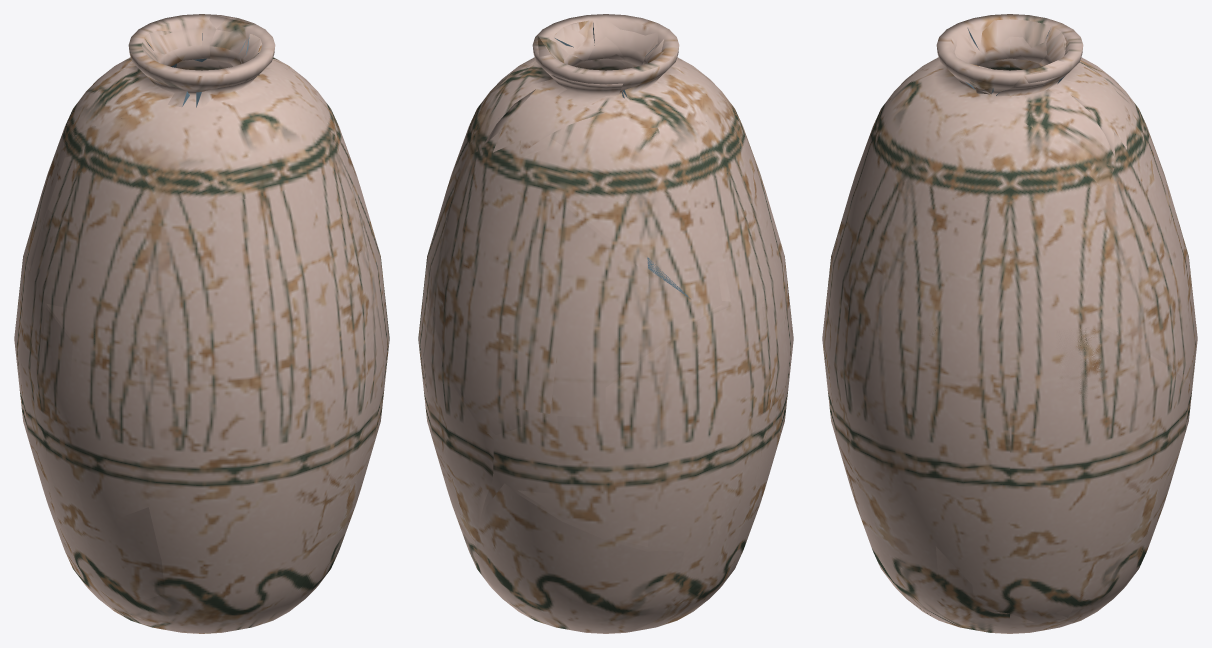
Rendered from Breakable_Ceramic_Vase_A_02.fbx.
3 renders of one model, left to right at view 1: azimuth 30°, elevation 25°; view 2: azimuth 150°, elevation 25°; view 3: azimuth 270°, elevation 25°, orthographic.
Parts seen in each view (by area): view 1: Breakable_Ceramic_Vase_A_02_Body, Breakable_Ceramic_Vase_A_02_cell.002, Breakable_Ceramic_Vase_A_02_cell.008, Breakable_Ceramic_Vase_A_02_cell.001, Breakable_Ceramic_Vase_A_02_cell, Breakable_Ceramic_Vase_A_02_cell.013, Breakable_Ceramic_Vase_A_02_cell.014, Breakable_Ceramic_Vase_A_02_cell.003, Breakable_Ceramic_Vase_A_02_cell.011; view 2: Breakable_Ceramic_Vase_A_02_Body, Breakable_Ceramic_Vase_A_02_cell.006, Breakable_Ceramic_Vase_A_02_cell.008, Breakable_Ceramic_Vase_A_02_cell.009, Breakable_Ceramic_Vase_A_02_cell.003, Breakable_Ceramic_Vase_A_02_cell.007, Breakable_Ceramic_Vase_A_02_cell.002, Breakable_Ceramic_Vase_A_02_cell, Breakable_Ceramic_Vase_A_02_cell.013, Breakable_Ceramic_Vase_A_02_cell.011, Breakable_Ceramic_Vase_A_02_cell.001, Breakable_Ceramic_Vase_A_02_cell.004 (+1 smaller); view 3: Breakable_Ceramic_Vase_A_02_Body, Breakable_Ceramic_Vase_A_02_cell.007, Breakable_Ceramic_Vase_A_02_cell.006, Breakable_Ceramic_Vase_A_02_cell.013, Breakable_Ceramic_Vase_A_02_cell, Breakable_Ceramic_Vase_A_02_cell.012, Breakable_Ceramic_Vase_A_02_cell.014, Breakable_Ceramic_Vase_A_02_cell.009, Breakable_Ceramic_Vase_A_02_cell.005, Breakable_Ceramic_Vase_A_02_cell.011.
Part boxes in pixels (box(x1,y1,x2,y2)): Breakable_Ceramic_Vase_A_02_Body: box(14, 14, 389, 633); Breakable_Ceramic_Vase_A_02_cell.002: box(31, 113, 157, 370); Breakable_Ceramic_Vase_A_02_cell.008: box(14, 257, 116, 522); Breakable_Ceramic_Vase_A_02_cell.001: box(62, 507, 176, 631); Breakable_Ceramic_Vase_A_02_cell: box(144, 28, 206, 67); Breakable_Ceramic_Vase_A_02_cell.013: box(209, 14, 274, 69); Breakable_Ceramic_Vase_A_02_cell.014: box(128, 39, 189, 107); Breakable_Ceramic_Vase_A_02_cell.003: box(43, 58, 130, 187); Breakable_Ceramic_Vase_A_02_cell.011: box(196, 54, 257, 108); Breakable_Ceramic_Vase_A_02_Body: box(426, 14, 793, 633); Breakable_Ceramic_Vase_A_02_cell.006: box(427, 155, 692, 434); Breakable_Ceramic_Vase_A_02_cell.008: box(518, 305, 790, 546); Breakable_Ceramic_Vase_A_02_cell.009: box(476, 483, 684, 633); Breakable_Ceramic_Vase_A_02_cell.003: box(522, 111, 692, 300); Breakable_Ceramic_Vase_A_02_cell.007: box(418, 262, 493, 556); Breakable_Ceramic_Vase_A_02_cell.002: box(693, 81, 789, 304); Breakable_Ceramic_Vase_A_02_cell: box(484, 75, 622, 155); Breakable_Ceramic_Vase_A_02_cell.013: box(467, 35, 583, 155); Breakable_Ceramic_Vase_A_02_cell.011: box(587, 19, 658, 67); Breakable_Ceramic_Vase_A_02_cell.001: box(608, 473, 769, 633); Breakable_Ceramic_Vase_A_02_cell.004: box(553, 20, 589, 50); Breakable_Ceramic_Vase_A_02_Body: box(822, 14, 1194, 633); Breakable_Ceramic_Vase_A_02_cell.007: box(1050, 326, 1189, 622); Breakable_Ceramic_Vase_A_02_cell.006: box(1079, 131, 1197, 382); Breakable_Ceramic_Vase_A_02_cell.013: box(996, 60, 1114, 187); Breakable_Ceramic_Vase_A_02_cell: box(1039, 27, 1134, 156); Breakable_Ceramic_Vase_A_02_cell.012: box(935, 546, 1034, 633); Breakable_Ceramic_Vase_A_02_cell.014: box(967, 19, 1051, 69); Breakable_Ceramic_Vase_A_02_cell.009: box(1067, 429, 1186, 622); Breakable_Ceramic_Vase_A_02_cell.005: box(1081, 189, 1103, 247); Breakable_Ceramic_Vase_A_02_cell.011: box(954, 32, 976, 90).
Size of the model in its own units: 0.1757 by 0.2893 by 0.1757.
